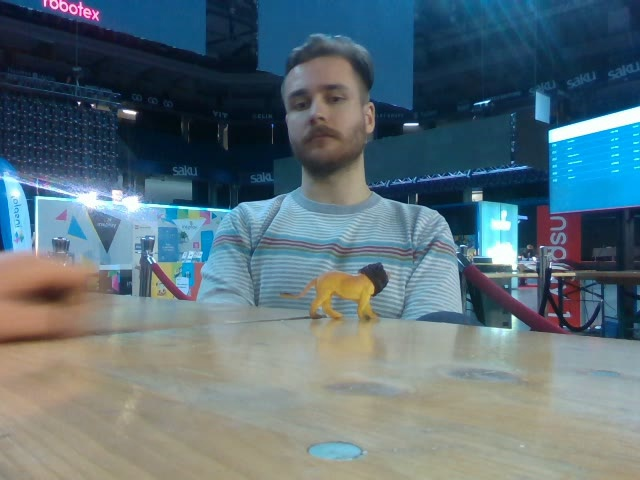toy: (278, 260, 389, 320)
